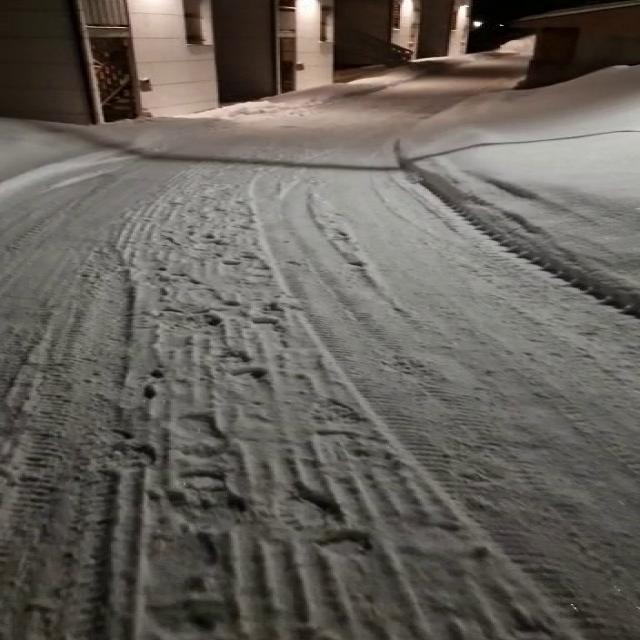path: (2, 52, 640, 640)
